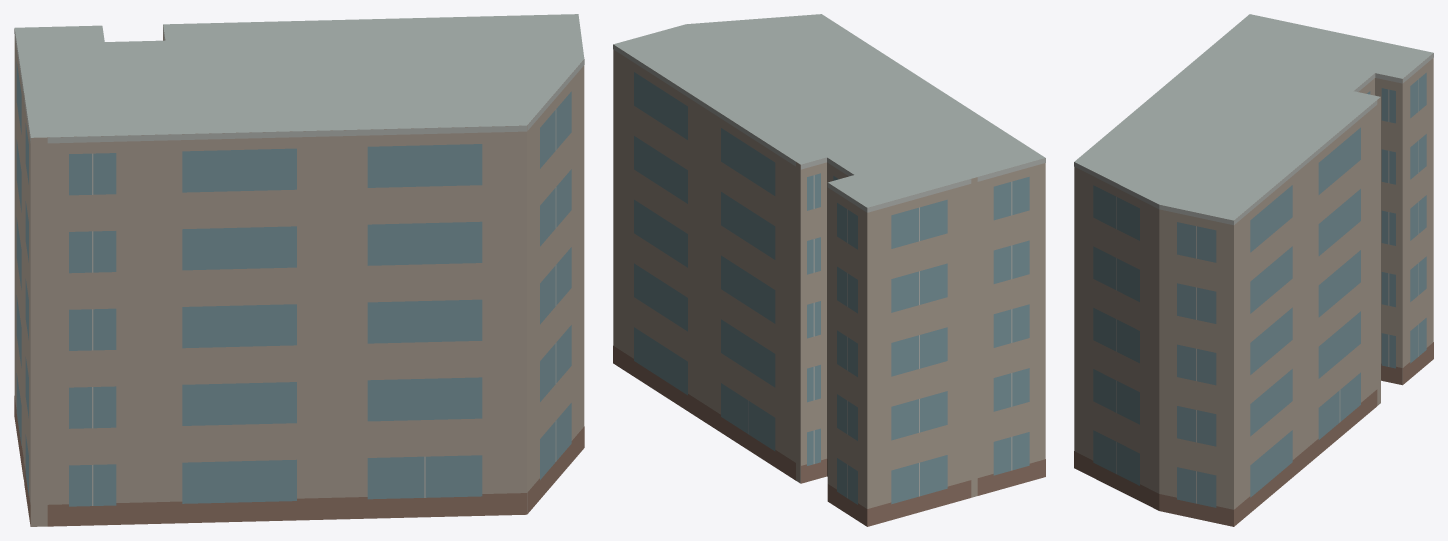
File: survey-upis-32672275.glb
3 views of the same model, side by side, from view 1: azimuth 30°, elevation 25°; view 2: azimuth 150°, elevation 25°; view 3: azimuth 270°, elevation 25° (orthographic). The views are drawn at different scales.
Visible parts, largest first — view 1: survey-upis-32672275.tmp; view 2: survey-upis-32672275.tmp; view 3: survey-upis-32672275.tmp.
Part boxes in pixels (box(x1,y1,x2,y2)): survey-upis-32672275.tmp: box(14, 14, 584, 526); survey-upis-32672275.tmp: box(613, 14, 1045, 526); survey-upis-32672275.tmp: box(1074, 14, 1433, 526).
Bounding box in the file's own units: 22.86 × 15.8 × 16.82.
